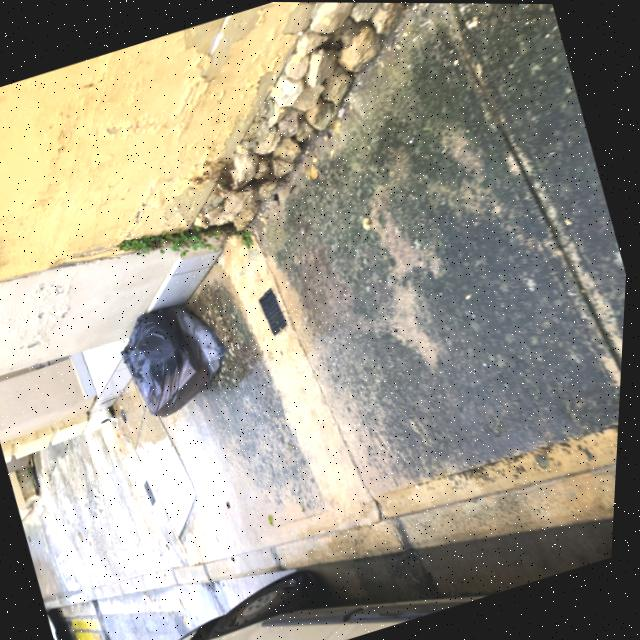Mixed Waste -Black Bag-: (115, 293, 245, 426)
